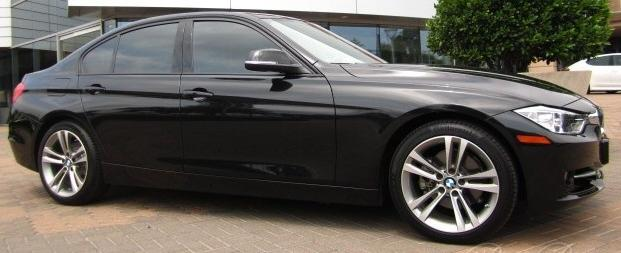front_view: (508, 89, 614, 209)
headlight: (509, 100, 592, 141)
side_glass: (75, 15, 326, 83)
